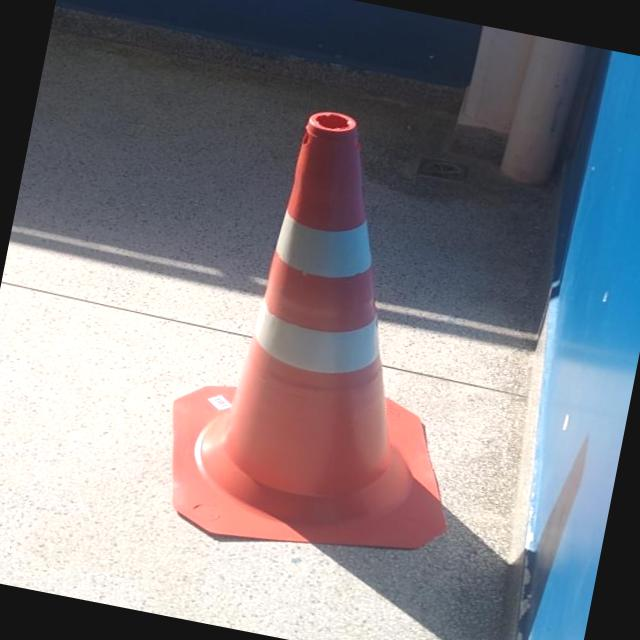Cone: (108, 39, 534, 596)
